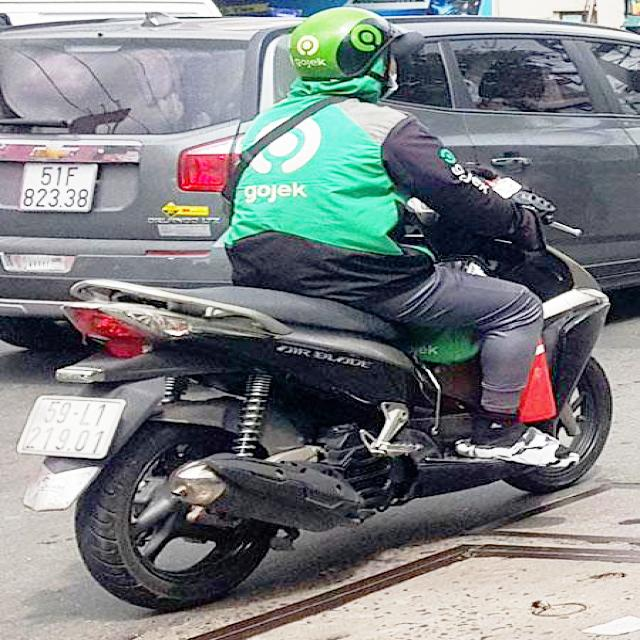license_plate: (21, 398, 126, 457)
